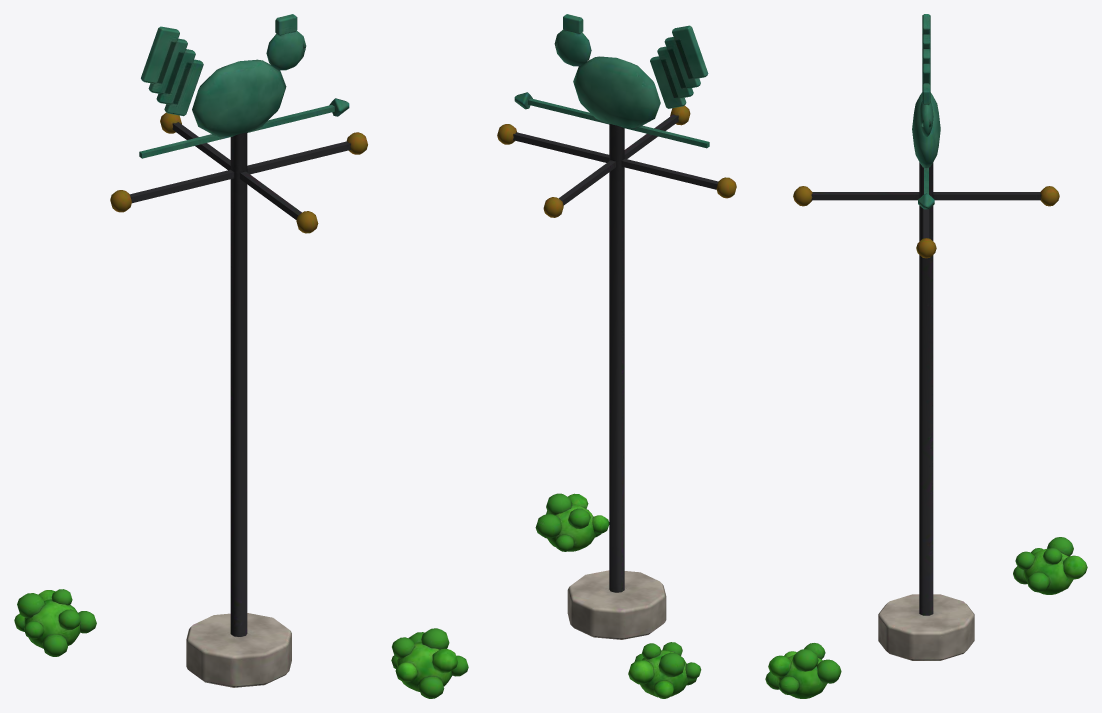
The model's file is weathervane.glb.
The picture shows the model from 3 angles, left to right: view 1: azimuth 30°, elevation 25°; view 2: azimuth 150°, elevation 25°; view 3: azimuth 270°, elevation 25°; orthographic projection. The views are drawn at different scales.
Visible parts, largest first — view 1: weathervane, spinY_vane; view 2: weathervane, spinY_vane; view 3: weathervane, spinY_vane.
Part boxes in pixels (x1,y1,x2,y2): weathervane: [14, 112, 468, 698]; spinY_vane: [139, 14, 349, 158]; weathervane: [497, 105, 736, 698]; spinY_vane: [514, 14, 709, 148]; weathervane: [765, 162, 1087, 698]; spinY_vane: [912, 14, 940, 209].
Size of the model in its own units: 0.7735 by 1.6 by 0.7857.
1 material, 1 textured.
